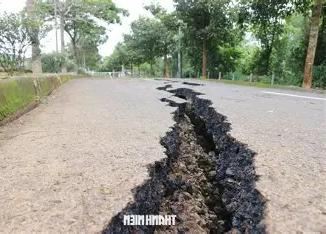ROAD_CRACK: (101, 75, 266, 234)
